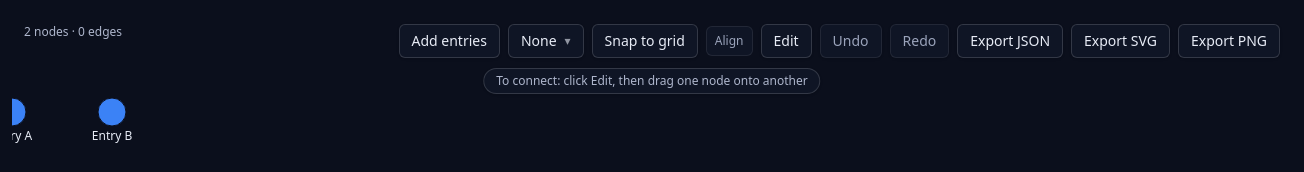
Test case: DiagramEditor › Test 2: clicking Edit sets aria-pressed=true on the Edit toggle
Click the button with aria-label "enter edit mode": (786, 41) [760,24,812,58]
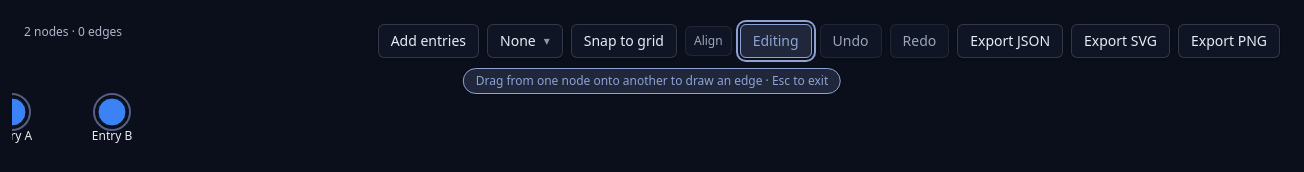
Now the button with aria-label "exit edit mode" reads "Editing", box [740,24,812,58]
